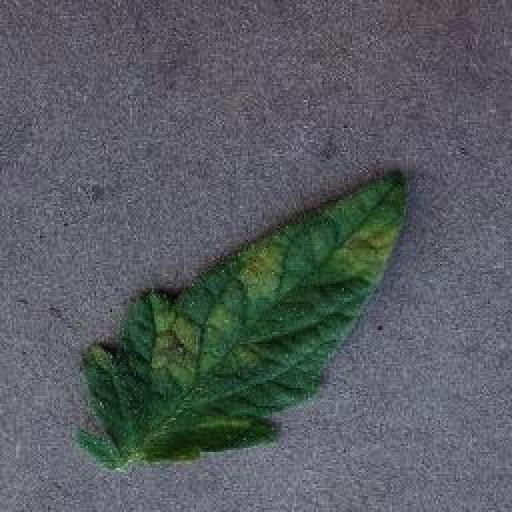disease_tomato: (80, 167, 410, 465)
